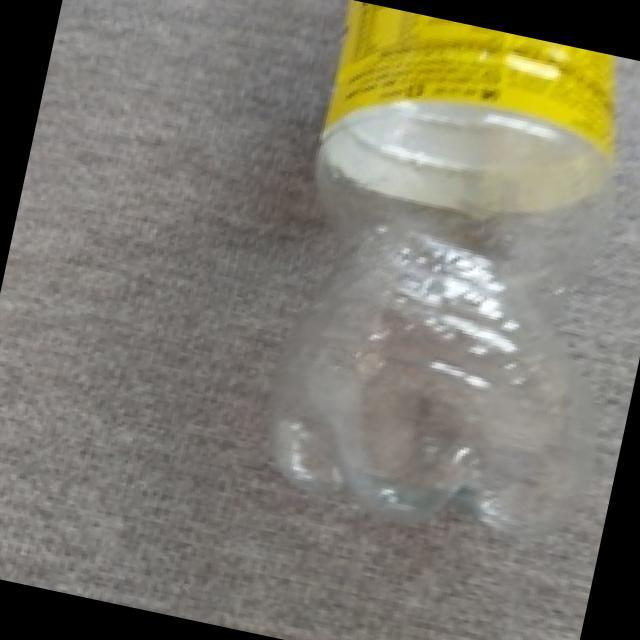good: (217, 0, 640, 589)
